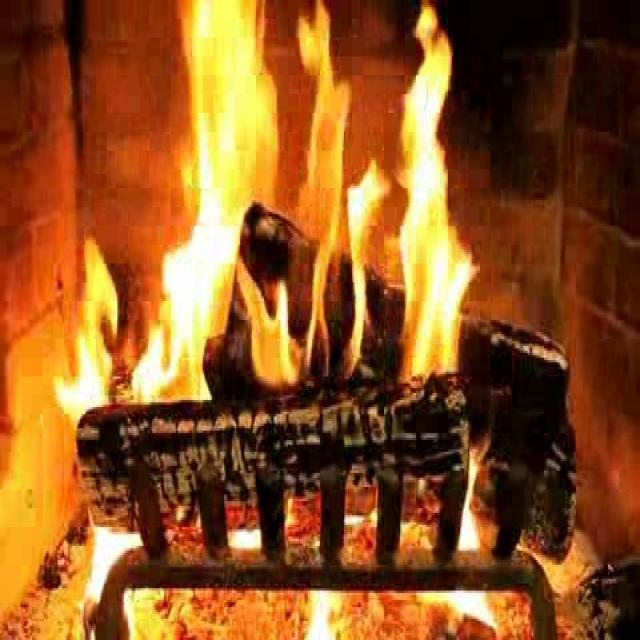Fire: (154, 14, 469, 386)
